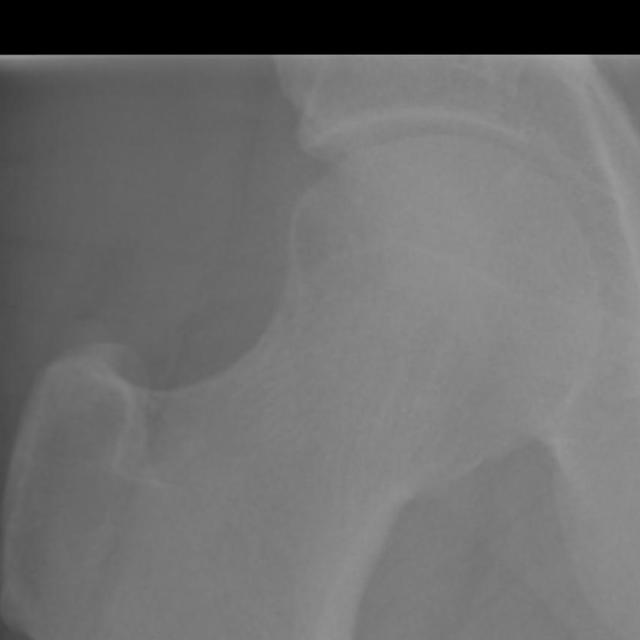Fitted_femural_head: (335, 142, 432, 335)
